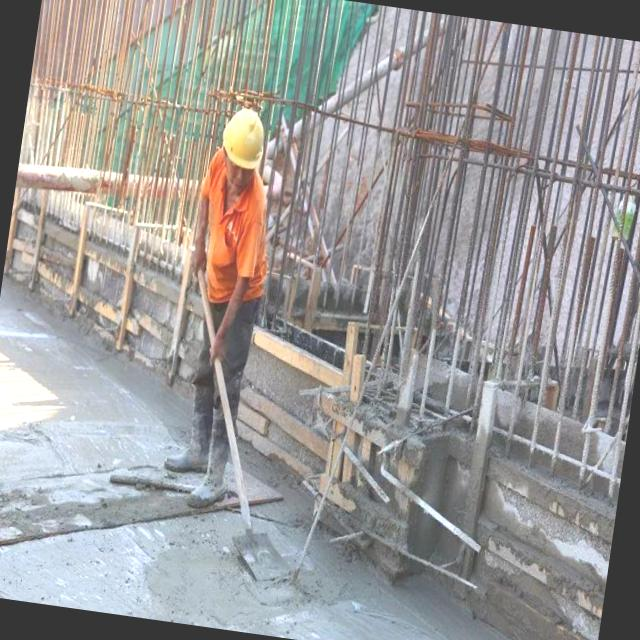helmet: (212, 104, 280, 176)
no-vest: (188, 154, 284, 312)
